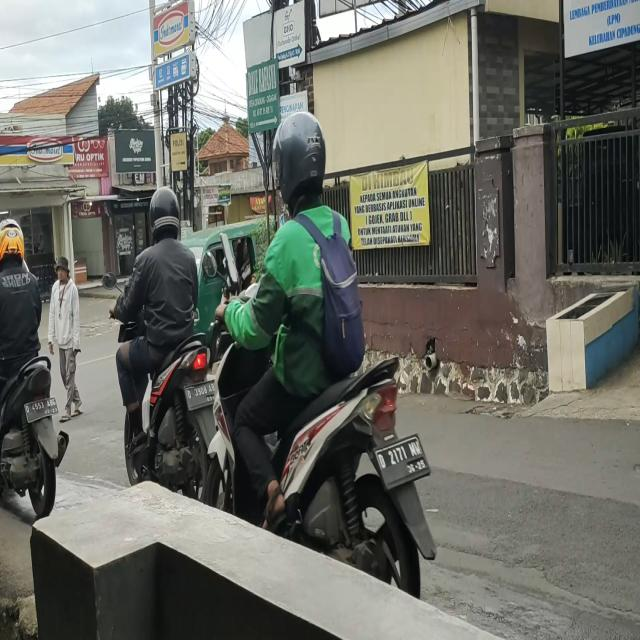helmet: (273, 110, 330, 202), (150, 188, 180, 239), (0, 217, 23, 266)
